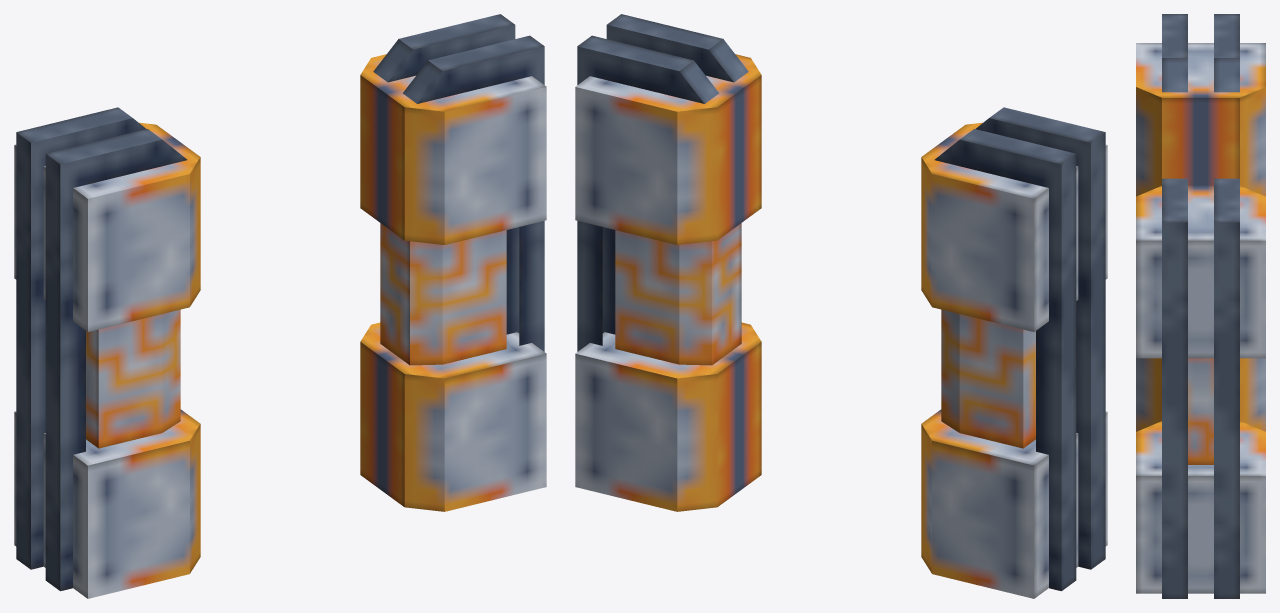
Rendered from Mech_Door_Base.fbx.
The picture shows the model from 3 angles, left to right: view 1: azimuth 30°, elevation 25°; view 2: azimuth 150°, elevation 25°; view 3: azimuth 270°, elevation 25°; orthographic projection. The views are drawn at different scales.
Parts seen in each view (by area): view 1: Cube.171; view 2: Cube.171; view 3: Cube.171.
Boxes of the visible parts, <box> form: Cube.171: <box>14,14,546,598</box>; Cube.171: <box>575,14,1107,598</box>; Cube.171: <box>1136,14,1265,598</box>.
Bounding box in the file's own units: 190 × 160 × 50.
